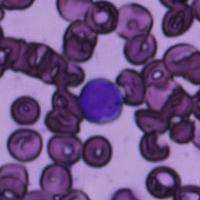L: (78, 77, 124, 124)
